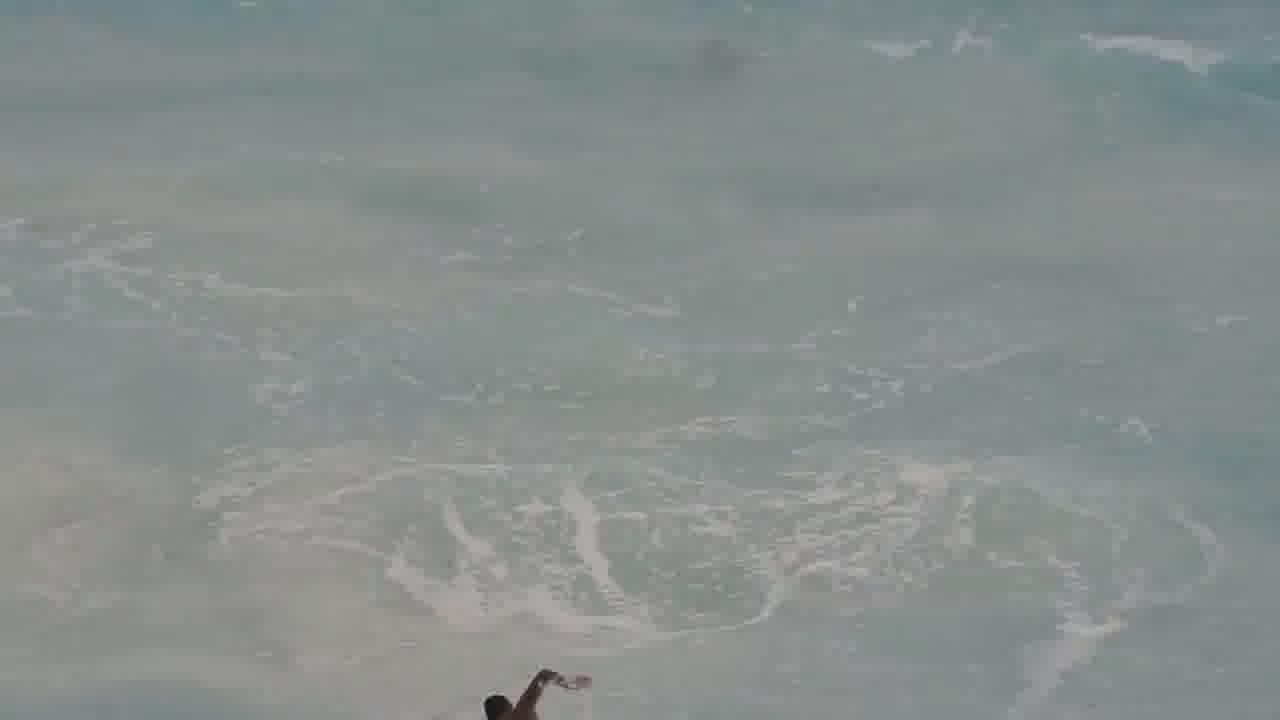human: (475, 670, 559, 720)
